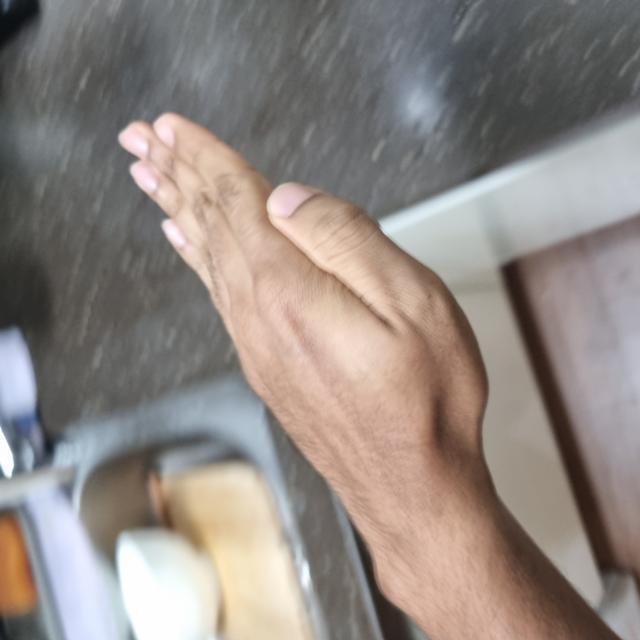Paper: (108, 124, 524, 485)
